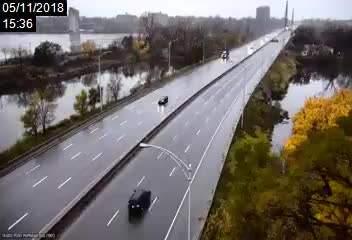personal_car: (127, 187, 153, 215), (157, 94, 169, 106)
